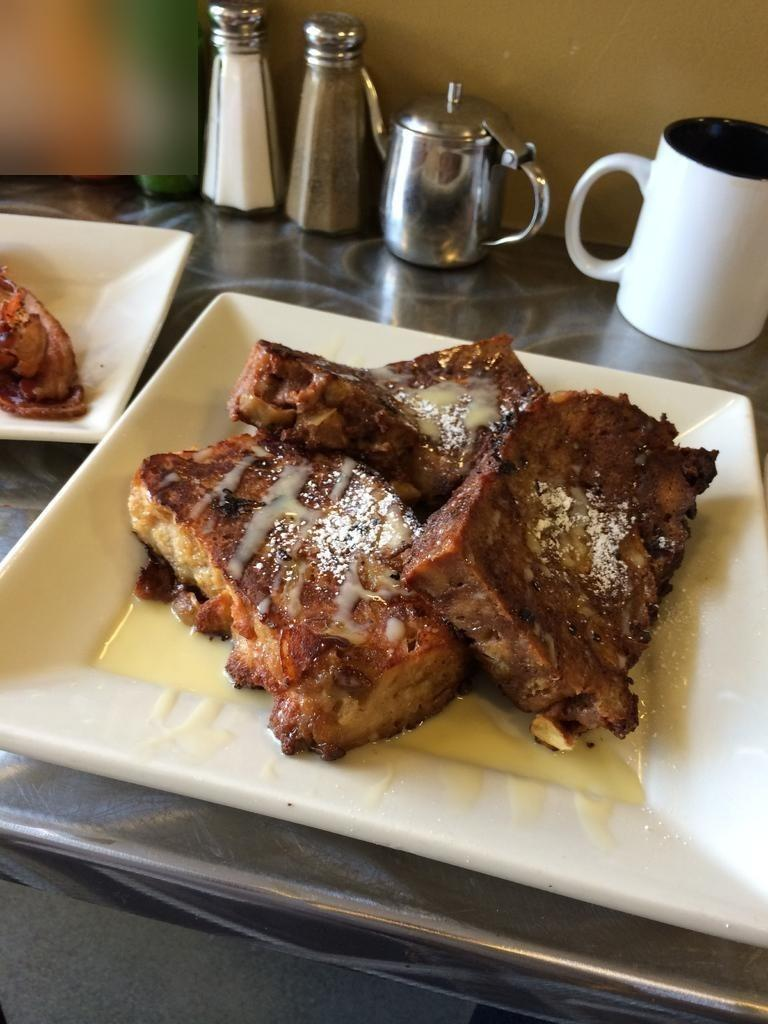cup-handle: (562, 114, 767, 356)
